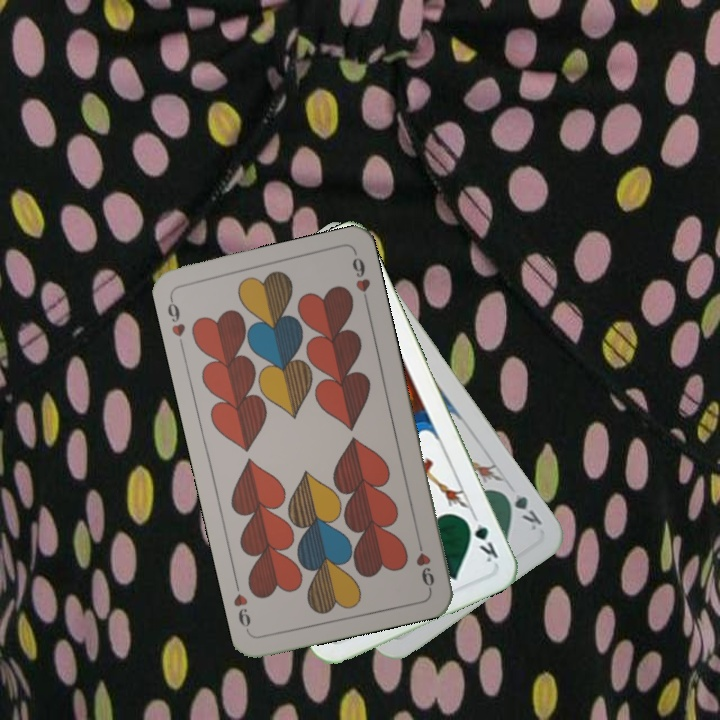GK: (461, 509, 501, 565), (498, 487, 545, 534)
H9: (412, 534, 437, 592), (163, 293, 188, 351)
